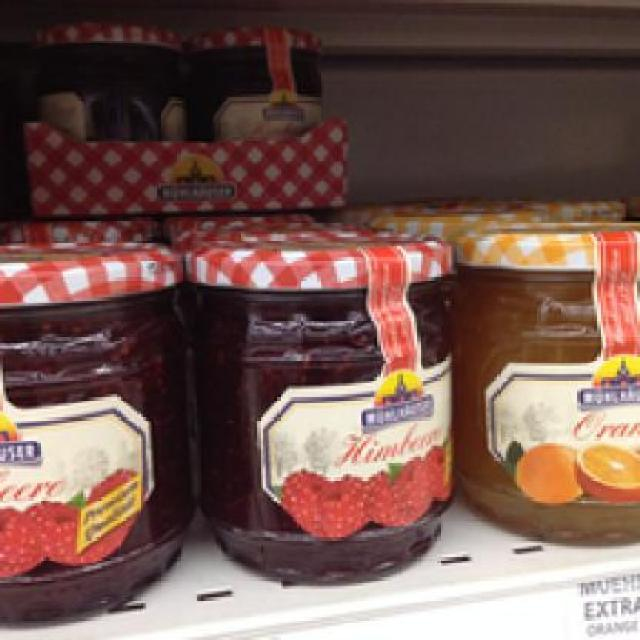Jam: (179, 226, 455, 588), (0, 237, 186, 623), (452, 220, 638, 546), (30, 17, 186, 143), (188, 25, 326, 141)
